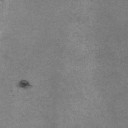iron sheet ash: (18, 80, 34, 88)
